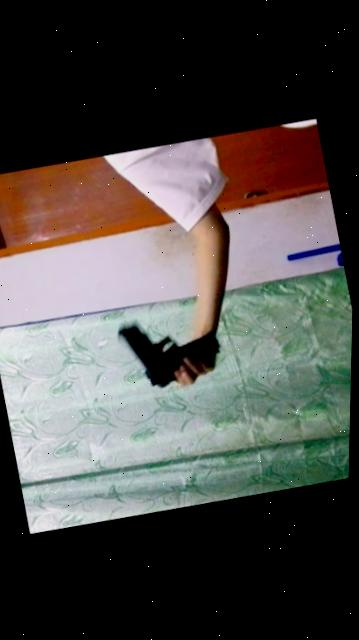pistol: (113, 287, 244, 410)
